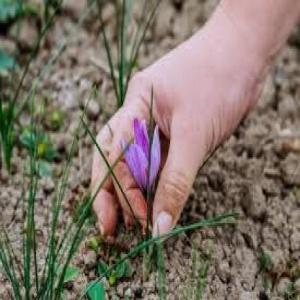Saffron: (128, 120, 162, 213)
